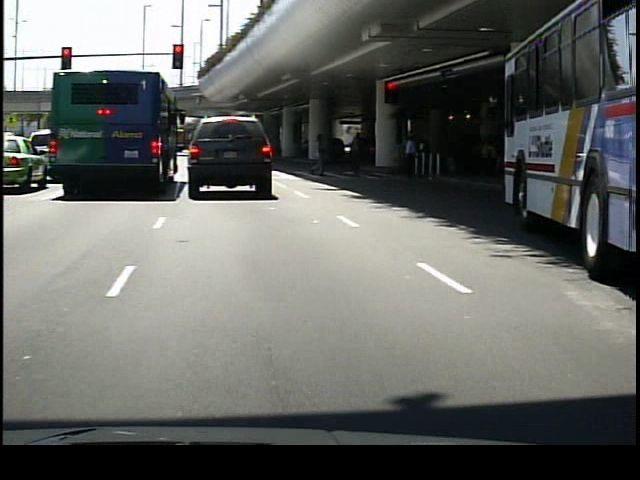person: (349, 128, 371, 184), (310, 127, 333, 177), (399, 132, 420, 179)
